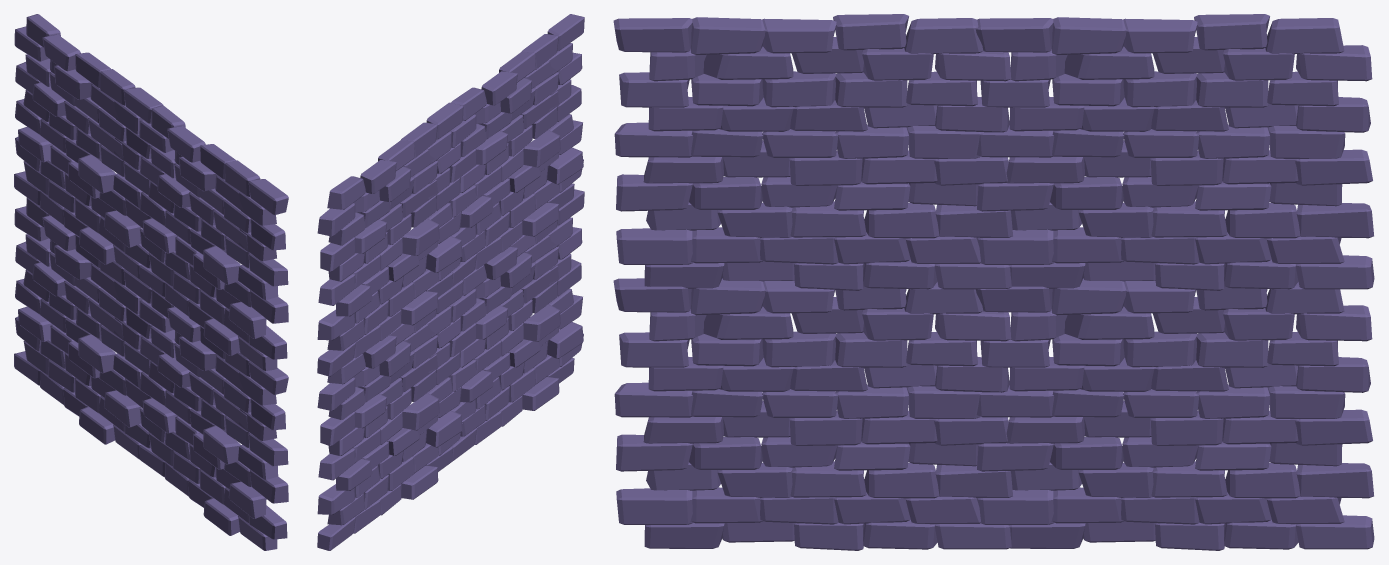
Rendered from wall.fbx.
3 views of the same model, side by side, from view 1: azimuth 30°, elevation 25°; view 2: azimuth 150°, elevation 25°; view 3: azimuth 270°, elevation 25° (orthographic). The views are drawn at different scales.
Visible parts, largest first — view 1: Wall.002; view 2: Wall.002; view 3: Wall.002.
Boxes of the visible parts, x1,y1,x2,y2 form: Wall.002: [14, 14, 288, 550]; Wall.002: [317, 14, 584, 550]; Wall.002: [613, 14, 1374, 550].
Bounding box in the file's own units: 93.26 × 1150 × 1512.
